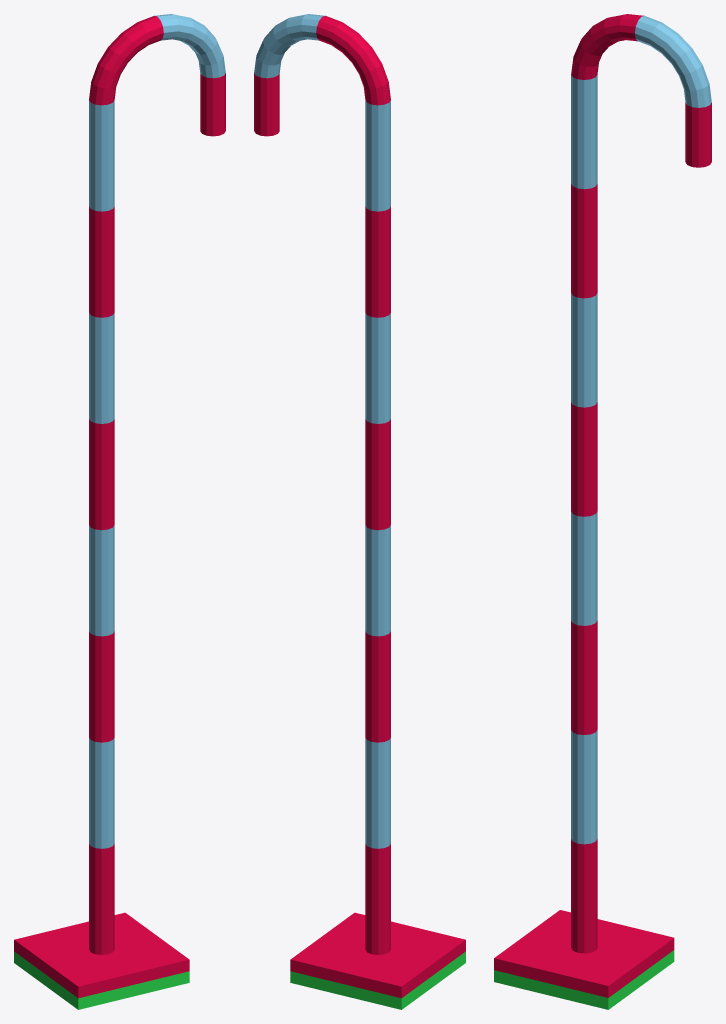
The model's file is Fireman Pole.fbx.
The picture shows the model from 3 angles, left to right: view 1: azimuth 30°, elevation 25°; view 2: azimuth 150°, elevation 25°; view 3: azimuth 330°, elevation 25°; orthographic projection. The views are drawn at different scales.
Parts seen in each view (by area): view 1: Fireman Pole; view 2: Fireman Pole; view 3: Fireman Pole.
Boxes of the visible parts, x1,y1,x2,y2 form: Fireman Pole: [14, 14, 225, 1009]; Fireman Pole: [254, 14, 465, 1009]; Fireman Pole: [494, 14, 711, 1009].
Size of the model in its own units: 64 by 324 by 40.
